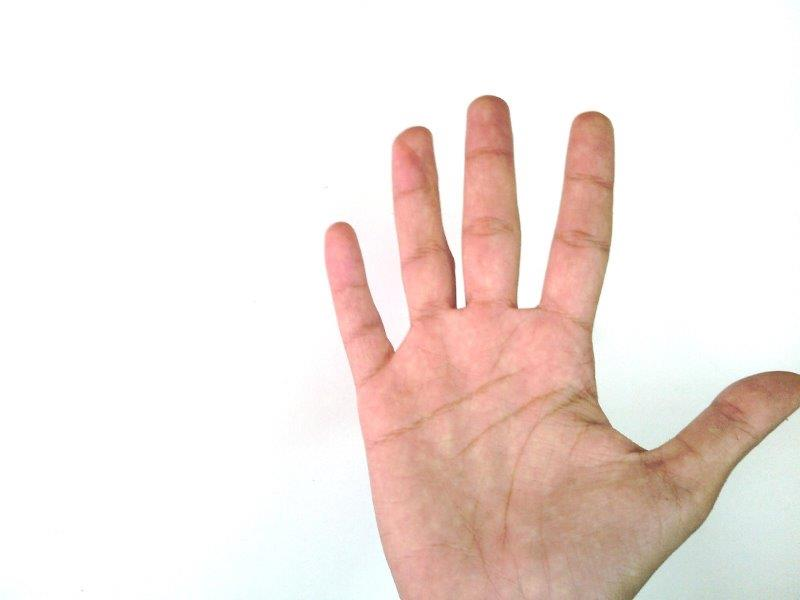hand: (325, 96, 800, 597)
